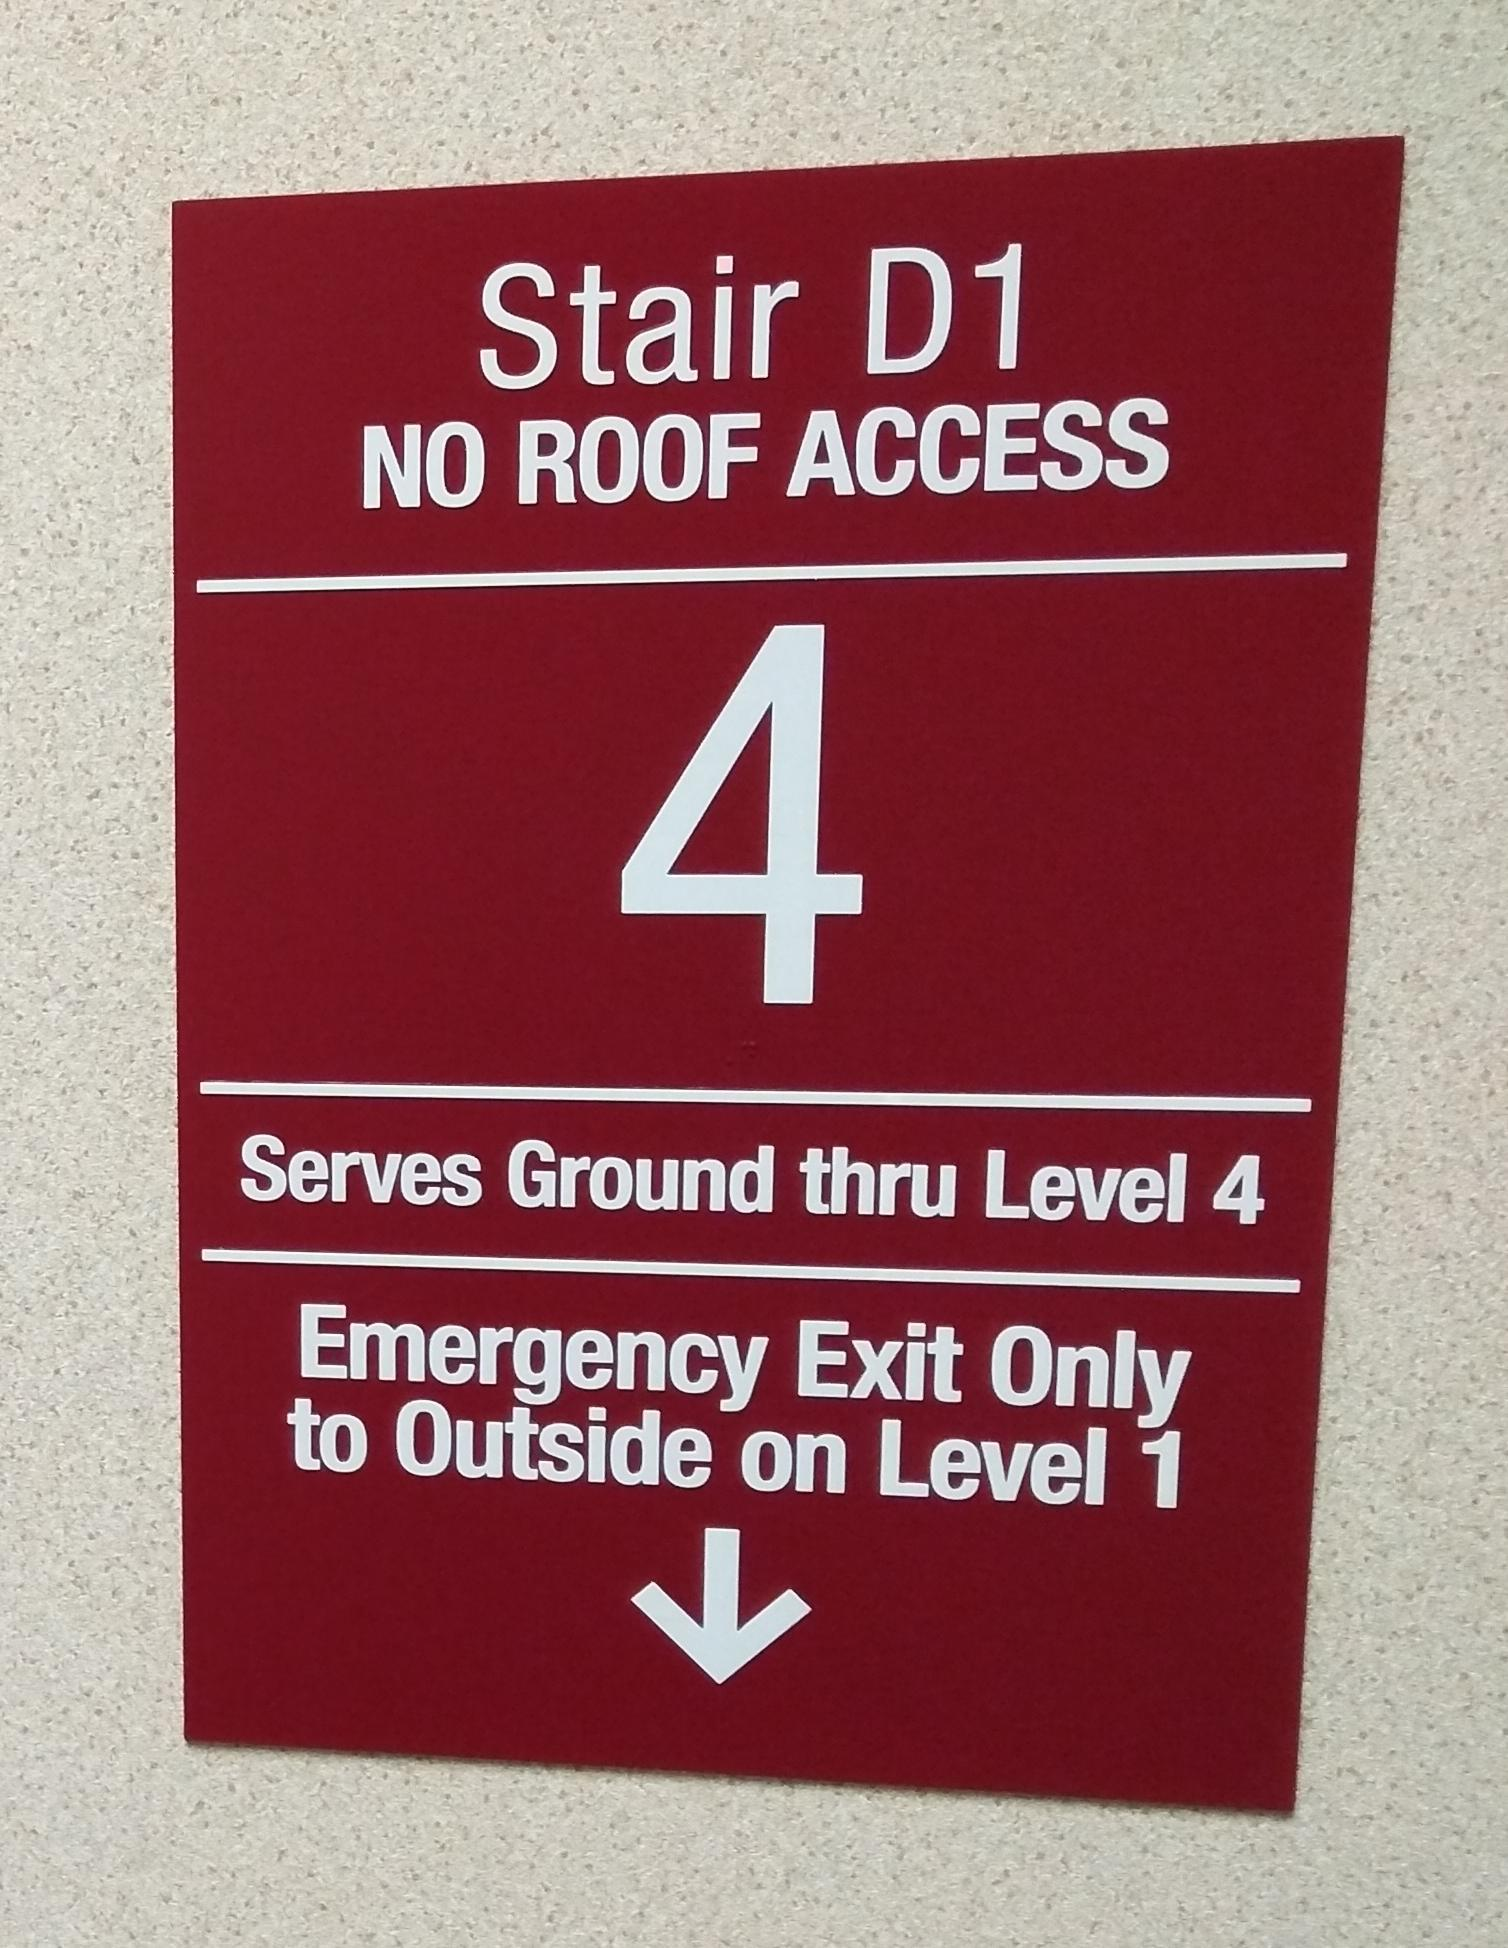sign: (172, 138, 1405, 1817)
